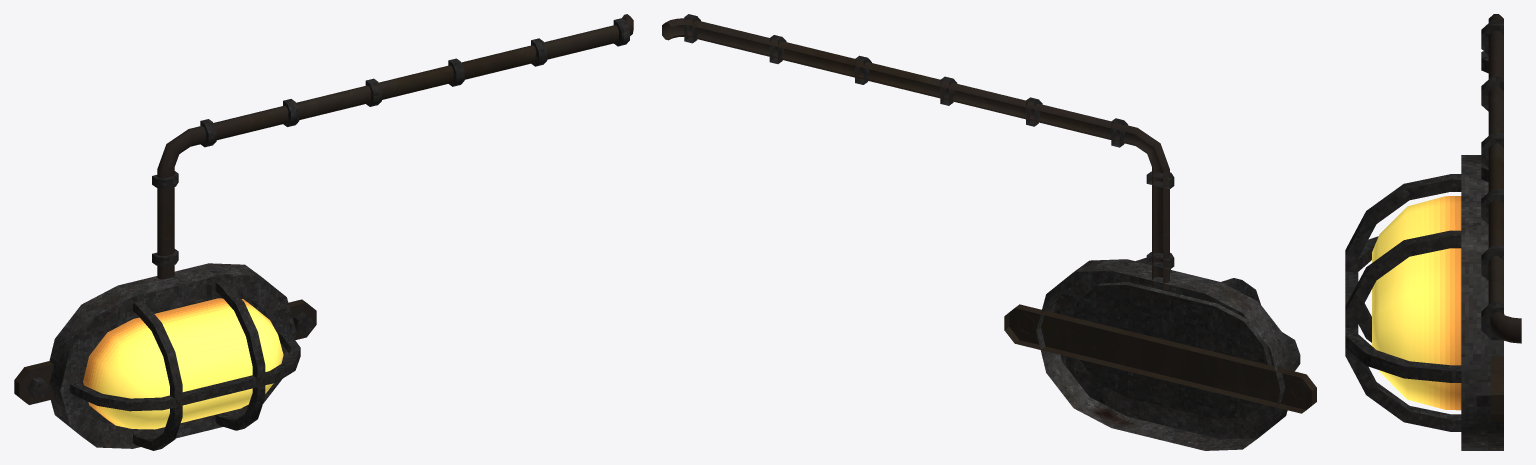
Rendered from lamp_1_on.glb.
3 renders of one model, left to right at view 1: azimuth 30°, elevation 25°; view 2: azimuth 150°, elevation 25°; view 3: azimuth 270°, elevation 25°, orthographic. The views are drawn at different scales.
Visible parts, largest first — view 1: lamp_1_on; view 2: lamp_1_on; view 3: lamp_1_on.
Part boxes in pixels (x1,y1,x2,y2): lamp_1_on: (14,14,633,450); lamp_1_on: (662,14,1316,450); lamp_1_on: (1345,14,1521,450).
Size of the model in its own units: 0.7532 by 0.343 by 0.1323.
4 materials, 4 textured.
